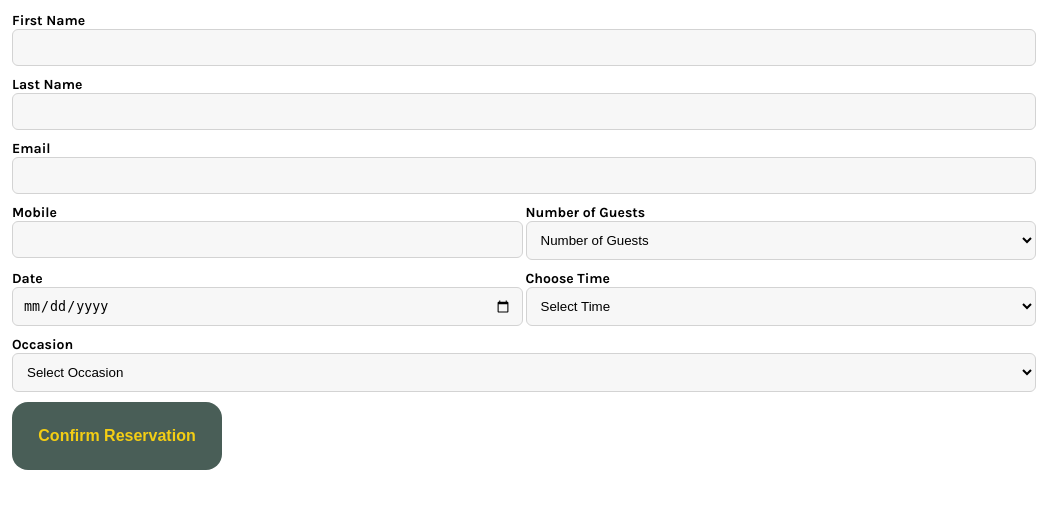
Email Valid Validation › Check if email is Valid
Type "invalid.email" into the field labelled "Email" at (524, 176), box x1=12 y1=157 x2=1036 y2=194
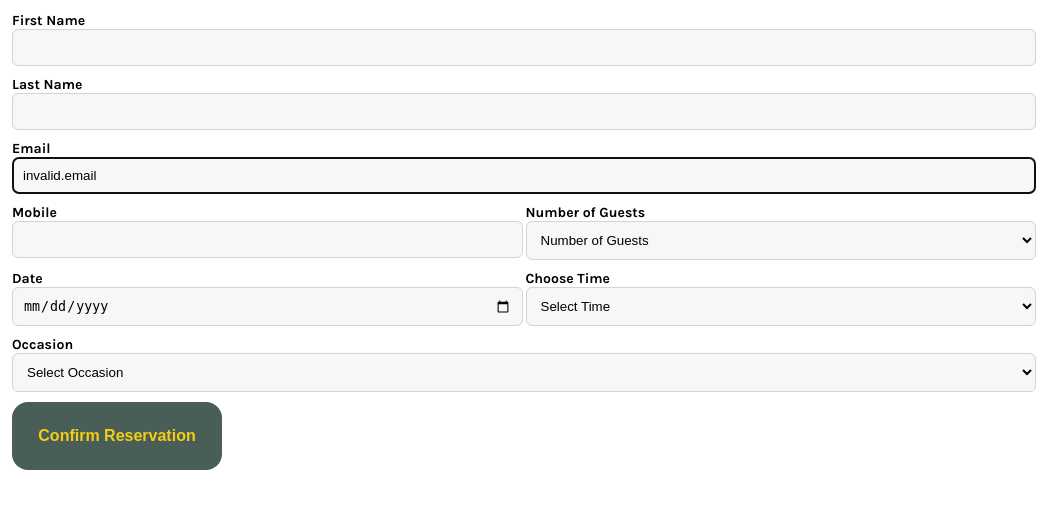
Click the button with aria-label "on click" at (117, 436), box x1=12 y1=402 x2=222 y2=470
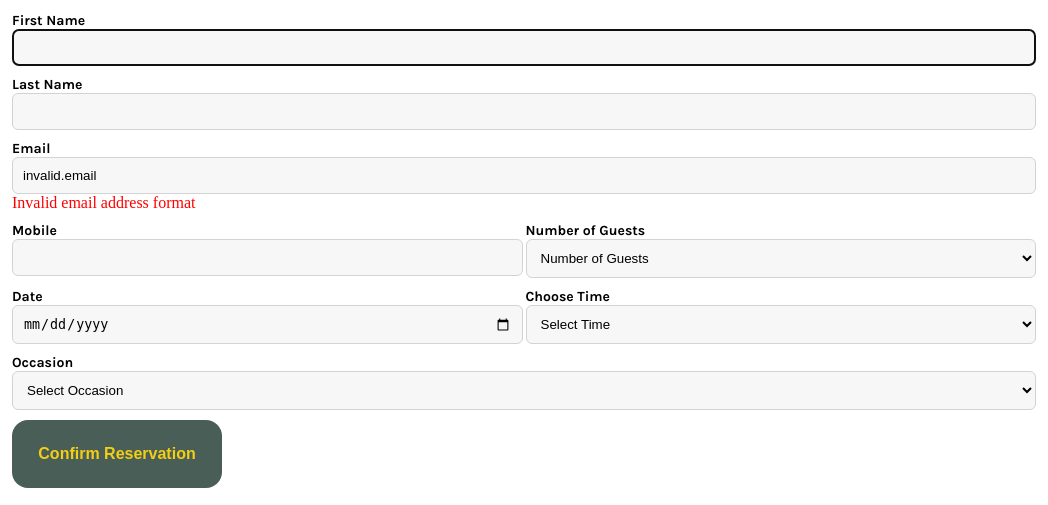
Check: the text "Invalid email address format" is shown, box x1=12 y1=194 x2=196 y2=211
